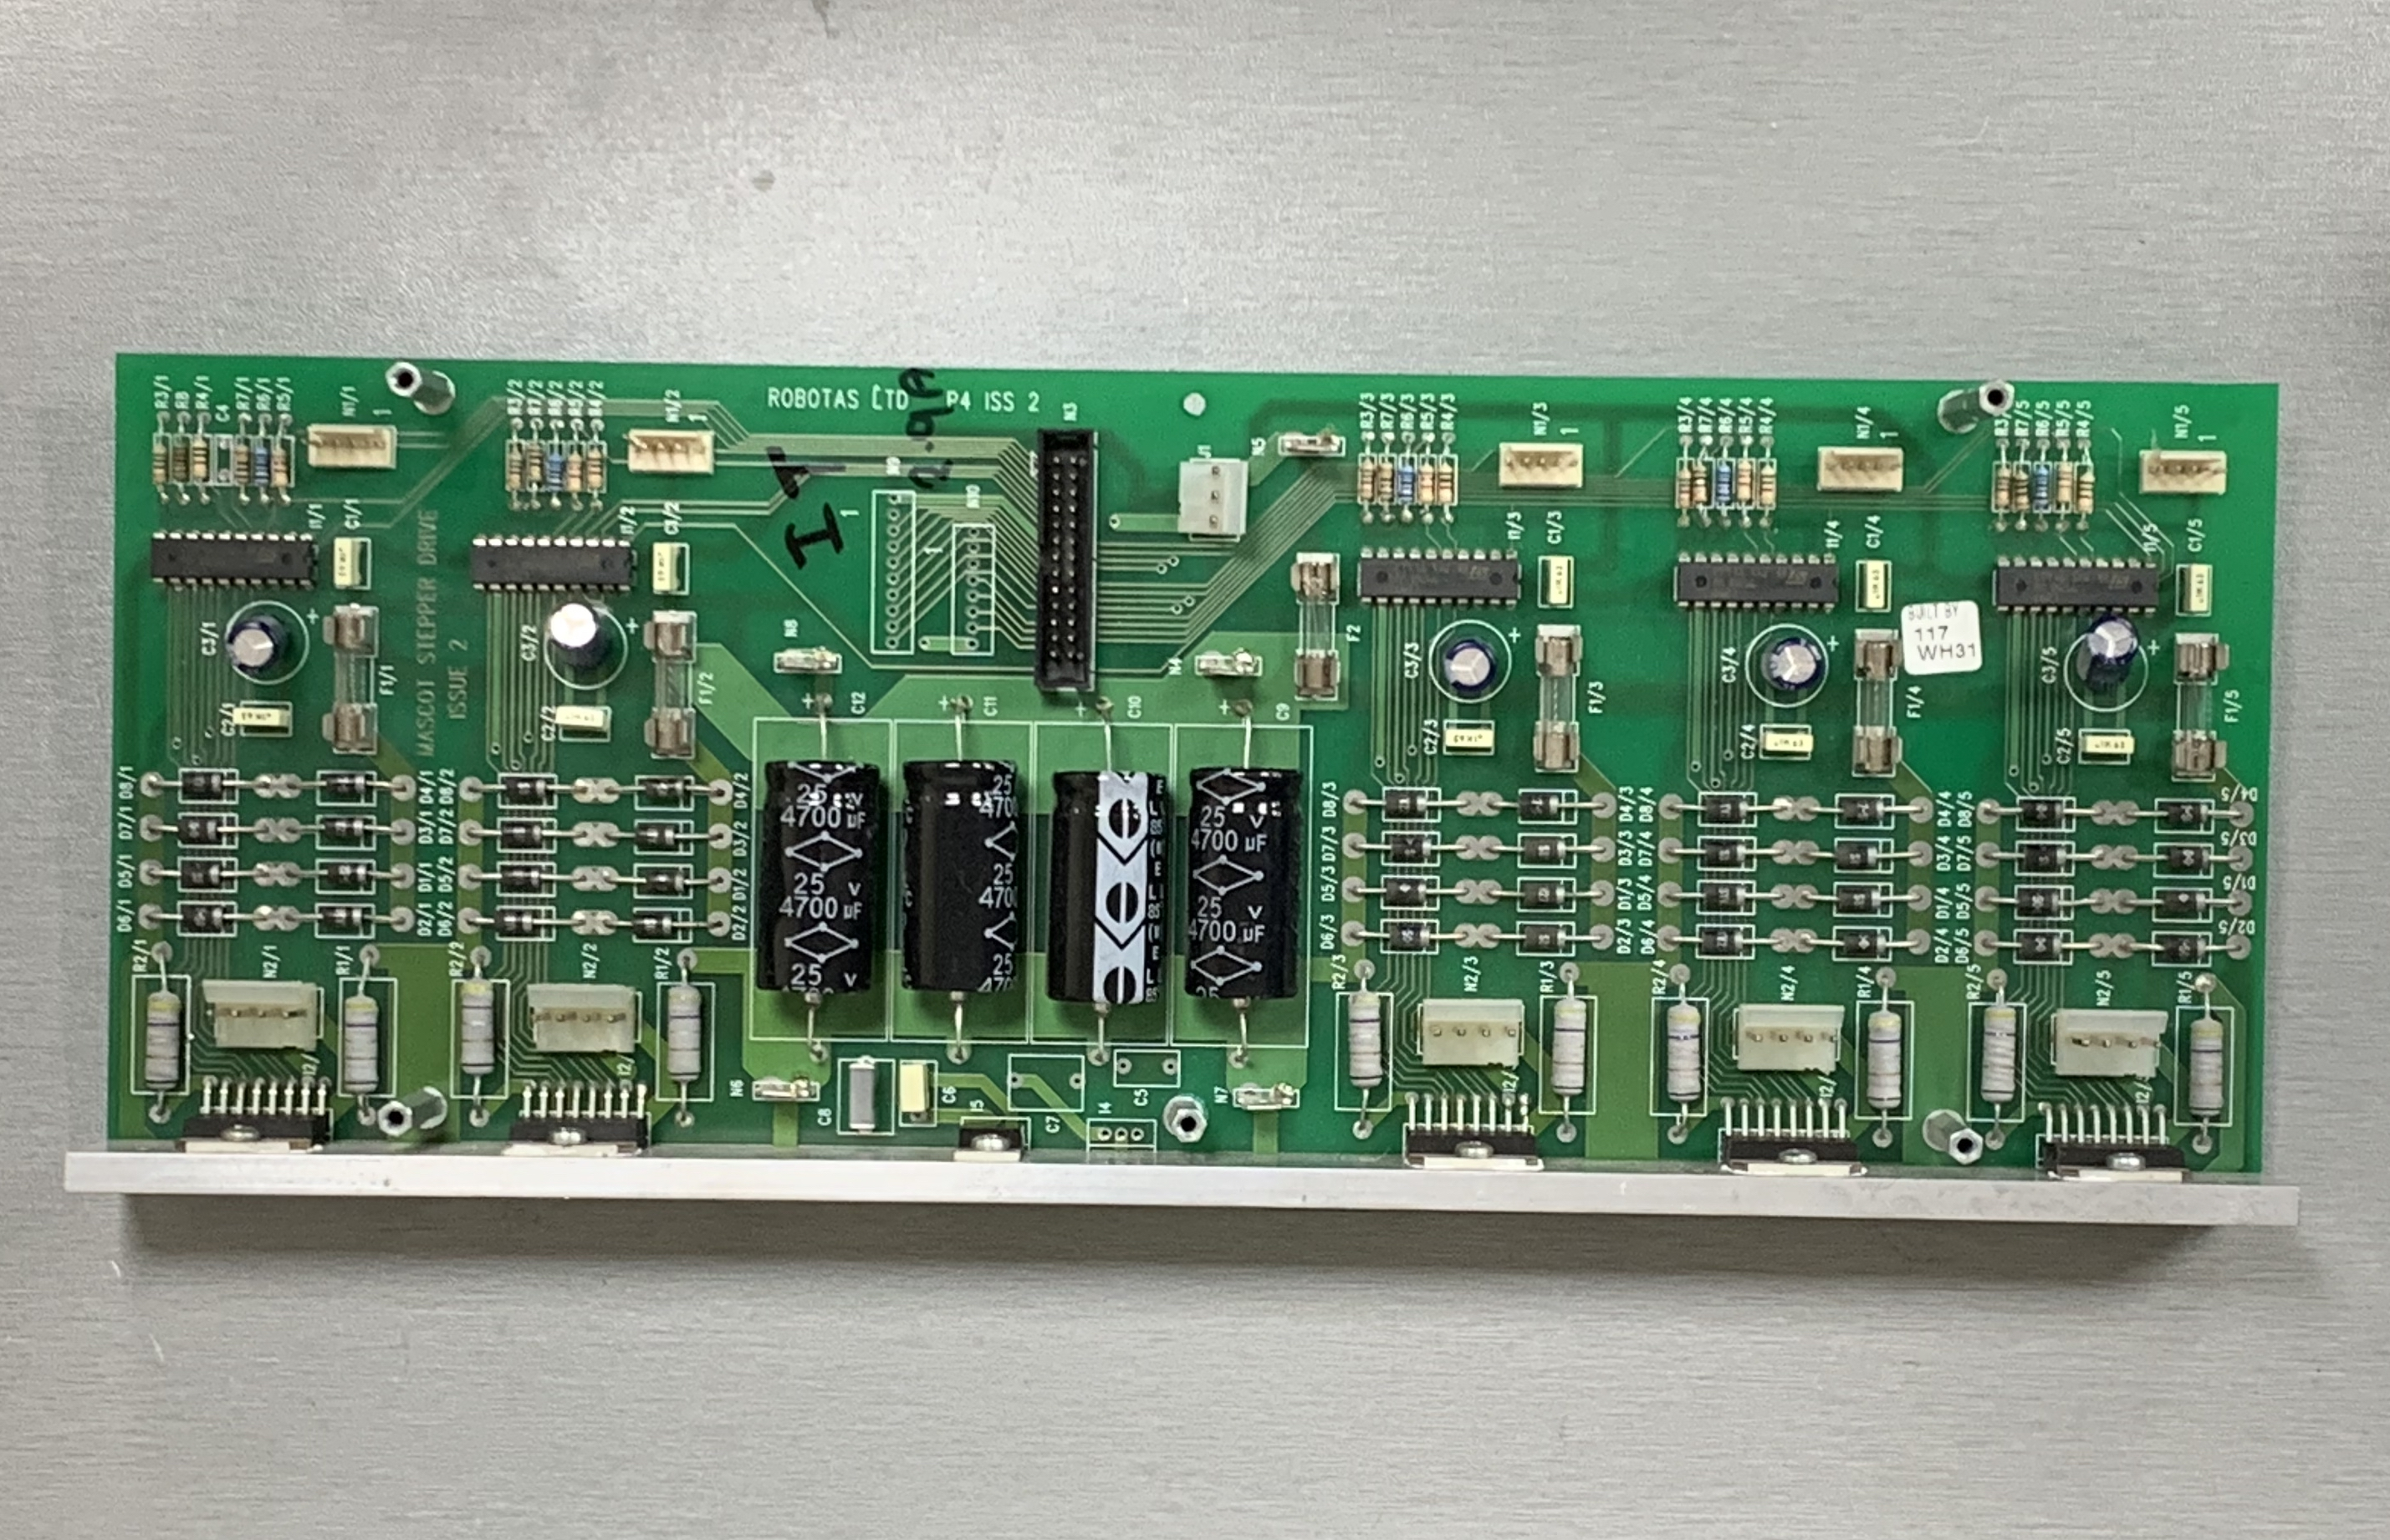Capacitor: (894, 742, 1026, 1005), (1181, 754, 1306, 1030), (1045, 754, 1172, 1021), (758, 751, 883, 1012), (2066, 608, 2146, 695), (543, 598, 613, 676), (223, 610, 294, 681), (1756, 632, 1826, 697), (1441, 634, 1500, 697)
Diode: (2012, 840, 2075, 876), (2012, 929, 2071, 965), (2010, 887, 2073, 920), (1829, 929, 1892, 960), (1829, 838, 1885, 873), (2015, 796, 2073, 829), (174, 814, 230, 847), (178, 901, 233, 934), (1831, 883, 1887, 916), (1702, 791, 1754, 826), (636, 864, 690, 897), (1698, 880, 1752, 913), (634, 775, 690, 807), (1695, 927, 1751, 958), (1381, 875, 1434, 908), (1519, 920, 1571, 953), (319, 770, 373, 801), (1519, 876, 1570, 909), (319, 815, 378, 843), (319, 861, 375, 890), (1698, 838, 1754, 868), (1836, 796, 1892, 826), (489, 906, 542, 937), (629, 909, 681, 941), (1385, 831, 1437, 862), (1383, 922, 1435, 953), (1521, 834, 1573, 866), (179, 857, 228, 890), (1383, 787, 1435, 817), (319, 904, 369, 934), (498, 862, 545, 894), (178, 770, 233, 796), (502, 775, 550, 805), (634, 822, 683, 852), (2157, 935, 2207, 963), (498, 819, 545, 848), (2155, 892, 2207, 918), (1516, 789, 1561, 819), (2158, 803, 2209, 829), (2162, 847, 2209, 875)
Resistor: (1859, 998, 1907, 1124), (451, 974, 503, 1091), (1658, 996, 1709, 1115), (1547, 990, 1596, 1108), (338, 986, 387, 1104), (1341, 983, 1390, 1099), (664, 979, 711, 1099), (2181, 1009, 2230, 1122), (139, 984, 186, 1101), (1975, 1000, 2021, 1117), (1733, 456, 1758, 510), (1758, 458, 1782, 510), (146, 436, 171, 486), (2075, 463, 2097, 517), (2054, 460, 2075, 517), (1435, 458, 1458, 510), (2033, 460, 2054, 514), (1991, 463, 2014, 512), (272, 439, 293, 491), (587, 446, 608, 498), (1712, 456, 1733, 509), (1397, 456, 1418, 509), (1376, 458, 1397, 509), (524, 442, 545, 491), (566, 441, 584, 498), (253, 439, 272, 490), (505, 441, 524, 491), (2014, 463, 2033, 514), (1418, 456, 1435, 510), (232, 437, 251, 486), (1693, 463, 1712, 509), (1357, 458, 1376, 503), (171, 434, 188, 483), (192, 437, 209, 484), (549, 449, 566, 495), (1676, 463, 1693, 509)
